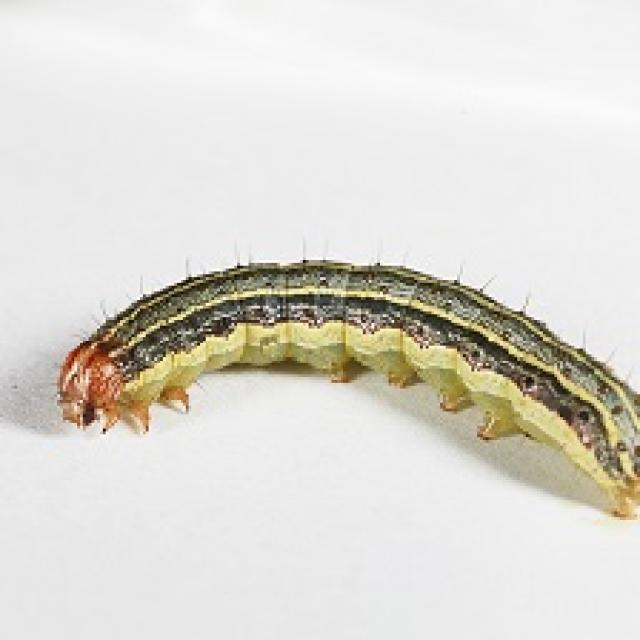worm: (55, 255, 638, 524)
